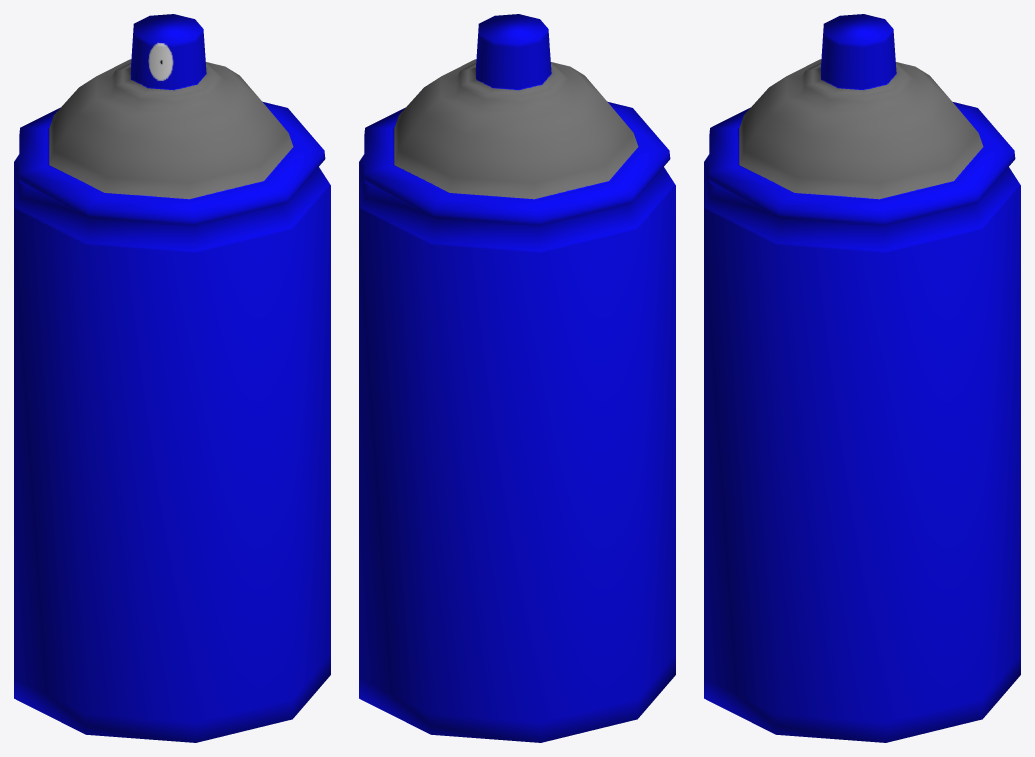
The model's file is Blue_can.gltf.
3 views of the same model, side by side, from view 1: azimuth 30°, elevation 25°; view 2: azimuth 150°, elevation 25°; view 3: azimuth 270°, elevation 25° (orthographic).
Visible parts, largest first — view 1: Cylinder.010; view 2: Cylinder.010; view 3: Cylinder.010.
Boxes of the visible parts, left/top/right/bottom form: Cylinder.010: left=14, top=14, right=330, bottom=742; Cylinder.010: left=359, top=14, right=675, bottom=742; Cylinder.010: left=704, top=14, right=1020, bottom=742.
Bounding box in the file's own units: 0.1543 × 0.3419 × 0.1519.
1 material, 1 textured.
